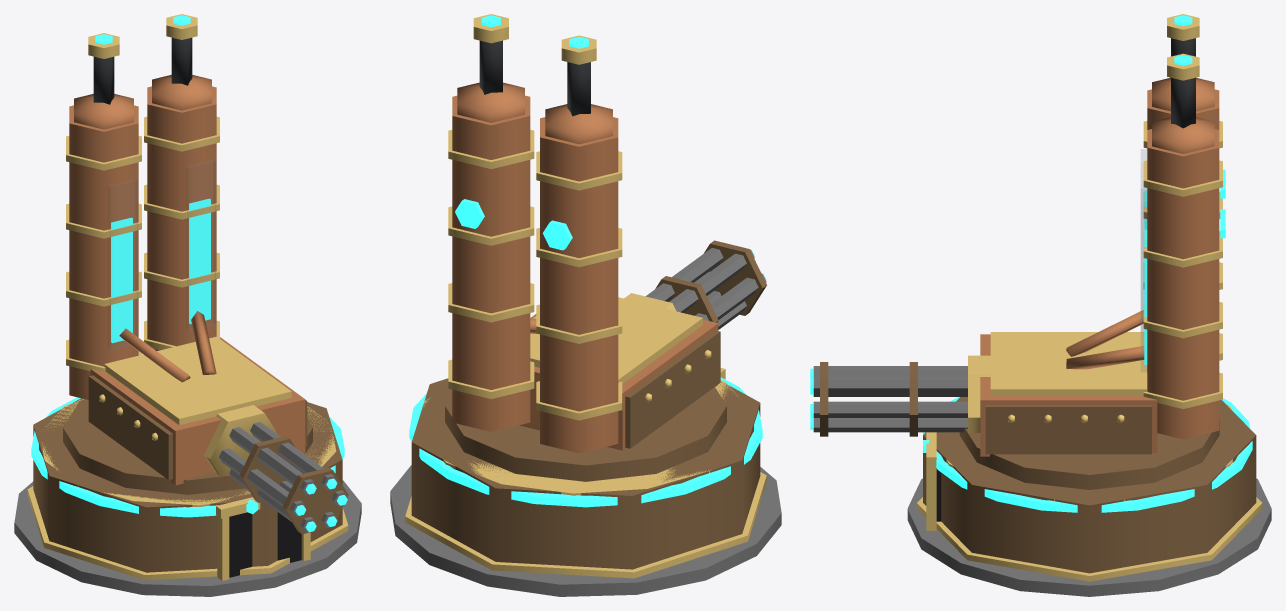
Rendered from Machinegoon_T2_Pepperbox.glb.
The picture shows the model from 3 angles, left to right: view 1: azimuth 30°, elevation 25°; view 2: azimuth 150°, elevation 25°; view 3: azimuth 270°, elevation 25°; orthographic projection. The views are drawn at different scales.
Visible parts, largest first — view 1: Machinegoon_T2_Pepperbox_Turret, Machinegoon_T2_Pepperbox_Base; view 2: Machinegoon_T2_Pepperbox_Turret, Machinegoon_T2_Pepperbox_Base; view 3: Machinegoon_T2_Pepperbox_Turret, Machinegoon_T2_Pepperbox_Base.
Boxes of the visible parts, x1,y1,x2,y2 form: Machinegoon_T2_Pepperbox_Turret: (63, 14, 348, 534); Machinegoon_T2_Pepperbox_Base: (14, 397, 361, 596); Machinegoon_T2_Pepperbox_Turret: (445, 14, 766, 481); Machinegoon_T2_Pepperbox_Base: (390, 368, 781, 596); Machinegoon_T2_Pepperbox_Turret: (810, 14, 1225, 489); Machinegoon_T2_Pepperbox_Base: (907, 397, 1271, 596).
Bounding box in the file's own units: 3.5 × 5.09 × 4.44.
